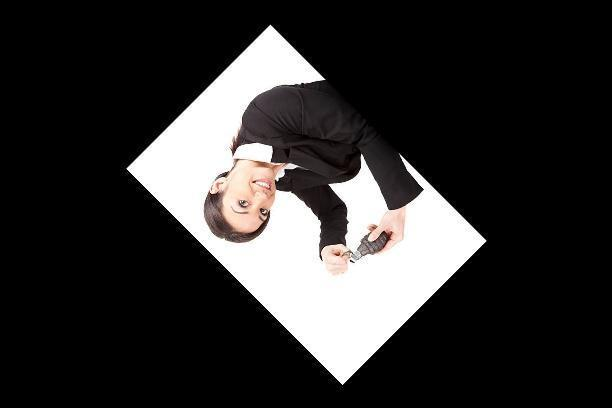Grenade: (340, 227, 388, 263)
